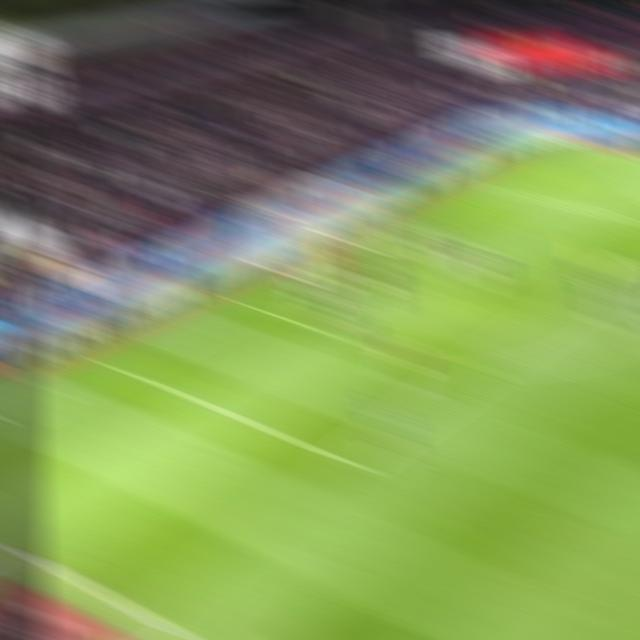bigarea_bottom_inner: (330, 448, 367, 479)
bigarea_bottom_outter: (99, 354, 131, 377)
bigarea_top_outter: (466, 176, 495, 196)
bottom_arc_area_intersection: (464, 355, 499, 382)
corner: (548, 138, 580, 154)
smallarea_bottom_inner: (291, 314, 323, 337)
smallarea_bottom_outter: (228, 290, 261, 313)
smallarea_top_inner: (452, 231, 482, 250)
smallarea_top_outter: (388, 214, 419, 231)
top_arc_area_intersection: (588, 275, 617, 295)
